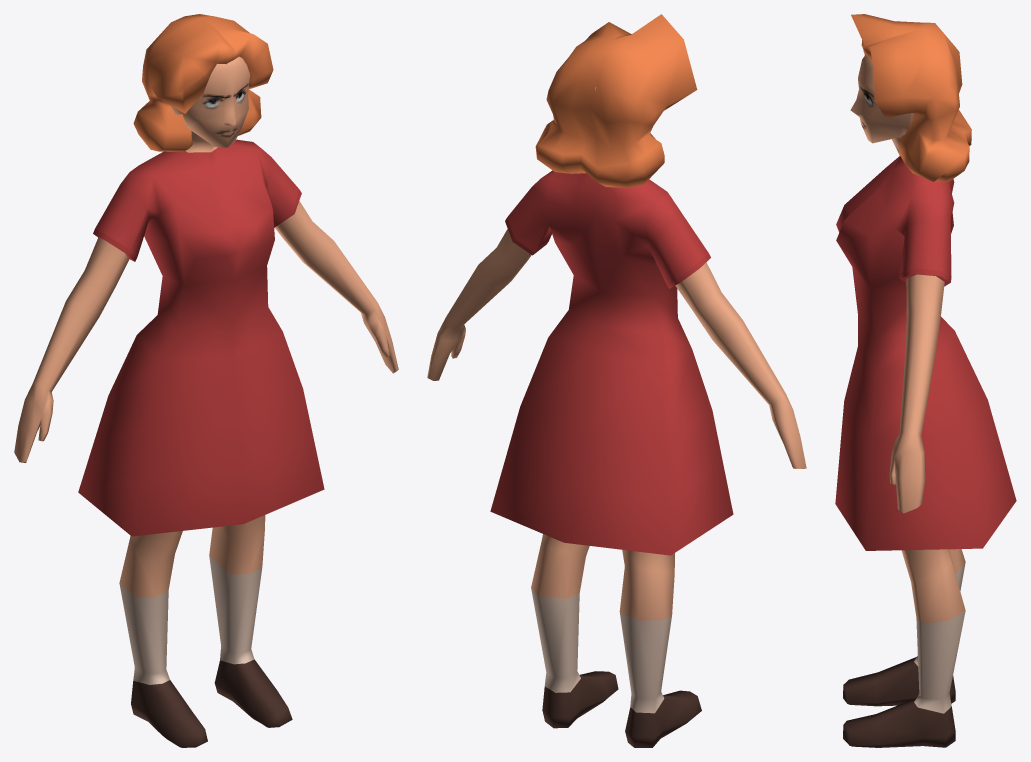
The model's file is CharWoman.fbx.
The picture shows the model from 3 angles, left to right: view 1: azimuth 30°, elevation 25°; view 2: azimuth 150°, elevation 25°; view 3: azimuth 270°, elevation 25°; orthographic projection.
Parts seen in each view (by area): view 1: CharWoman; view 2: CharWoman; view 3: CharWoman.
Part boxes in pixels (left/top/right/bottom): CharWoman: left=14, top=14, right=398, bottom=747; CharWoman: left=427, top=14, right=806, bottom=747; CharWoman: left=835, top=14, right=1016, bottom=747.
Bounding box in the file's own units: 102 × 179 × 42.12.
